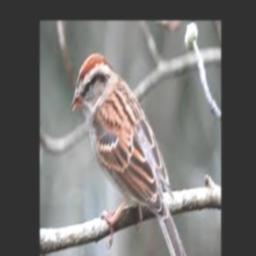Sparrow: (70, 52, 194, 256)
